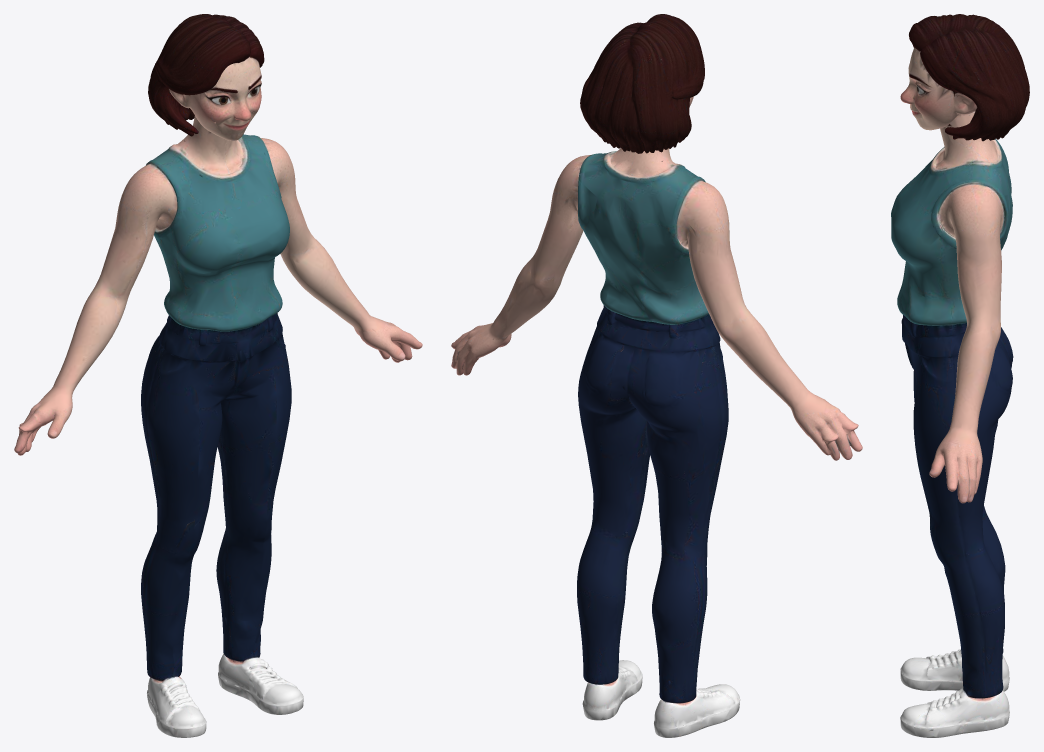
File: nell.glb
3 renders of one model, left to right at view 1: azimuth 30°, elevation 25°; view 2: azimuth 150°, elevation 25°; view 3: azimuth 270°, elevation 25°, orthographic.
Parts seen in each view (by area): view 1: nell_gen; view 2: nell_gen; view 3: nell_gen.
Boxes of the visible parts, x1=… form: nell_gen: x1=14, y1=14, x2=422, y2=737; nell_gen: x1=451, y1=14, x2=862, y2=737; nell_gen: x1=891, y1=14, x2=1029, y2=737.
Size of the model in its own units: 1.03 by 1.65 by 0.3013.
1 material, 1 textured.
